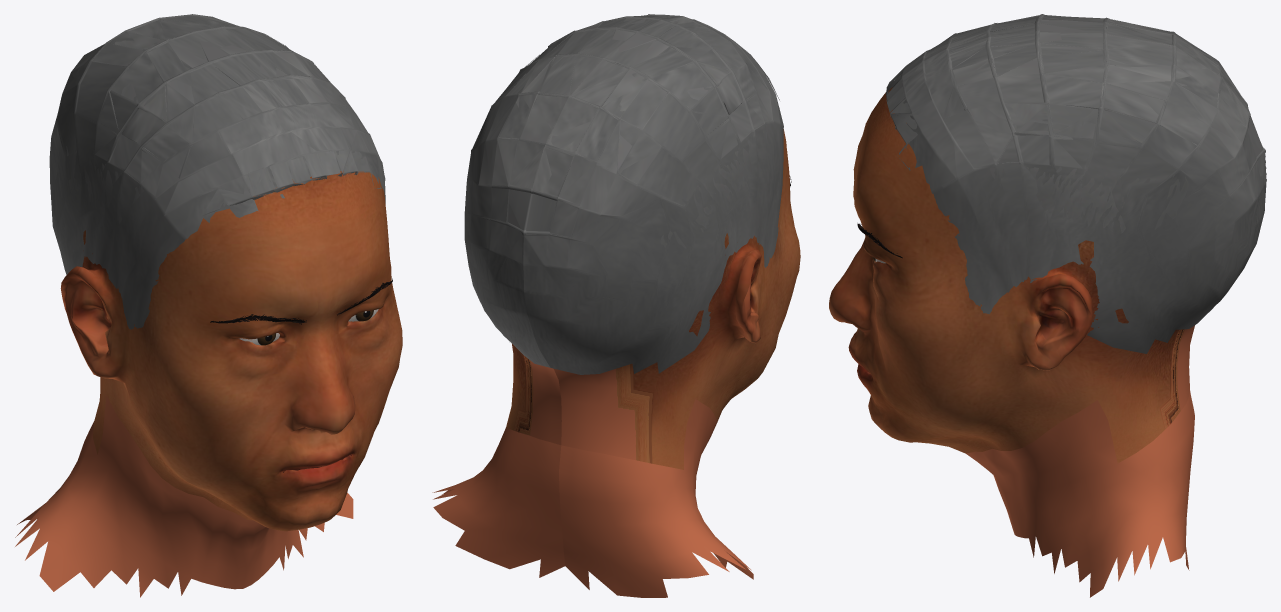
The model's file is hero_world_head_junbo.glb.
3 renders of one model, left to right at view 1: azimuth 30°, elevation 25°; view 2: azimuth 150°, elevation 25°; view 3: azimuth 270°, elevation 25°, orthographic. The views are drawn at different scales.
Visible parts, largest first — view 1: head_skull, mpfb_hair, mpfb_brows; view 2: mpfb_hair, head_skull; view 3: mpfb_hair, head_skull.
Boxes of the visible parts, left/top/right/bottom form: head_skull: left=15, top=171, right=402, bottom=597; mpfb_hair: left=49, top=14, right=385, bottom=329; mpfb_brows: left=210, top=278, right=392, bottom=324; mpfb_hair: left=464, top=14, right=783, bottom=374; head_skull: left=432, top=129, right=800, bottom=597; mpfb_hair: left=886, top=14, right=1266, bottom=353; head_skull: left=829, top=87, right=1194, bottom=597.
Bounding box in the file's own units: 0.35 × 0.534 × 0.419.
4 materials, 4 textured.
